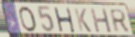5: (35, 5, 56, 34)
H: (53, 7, 76, 34), (90, 8, 113, 34)
K: (74, 7, 93, 34)
O: (18, 6, 39, 33)
R: (109, 8, 130, 33)
